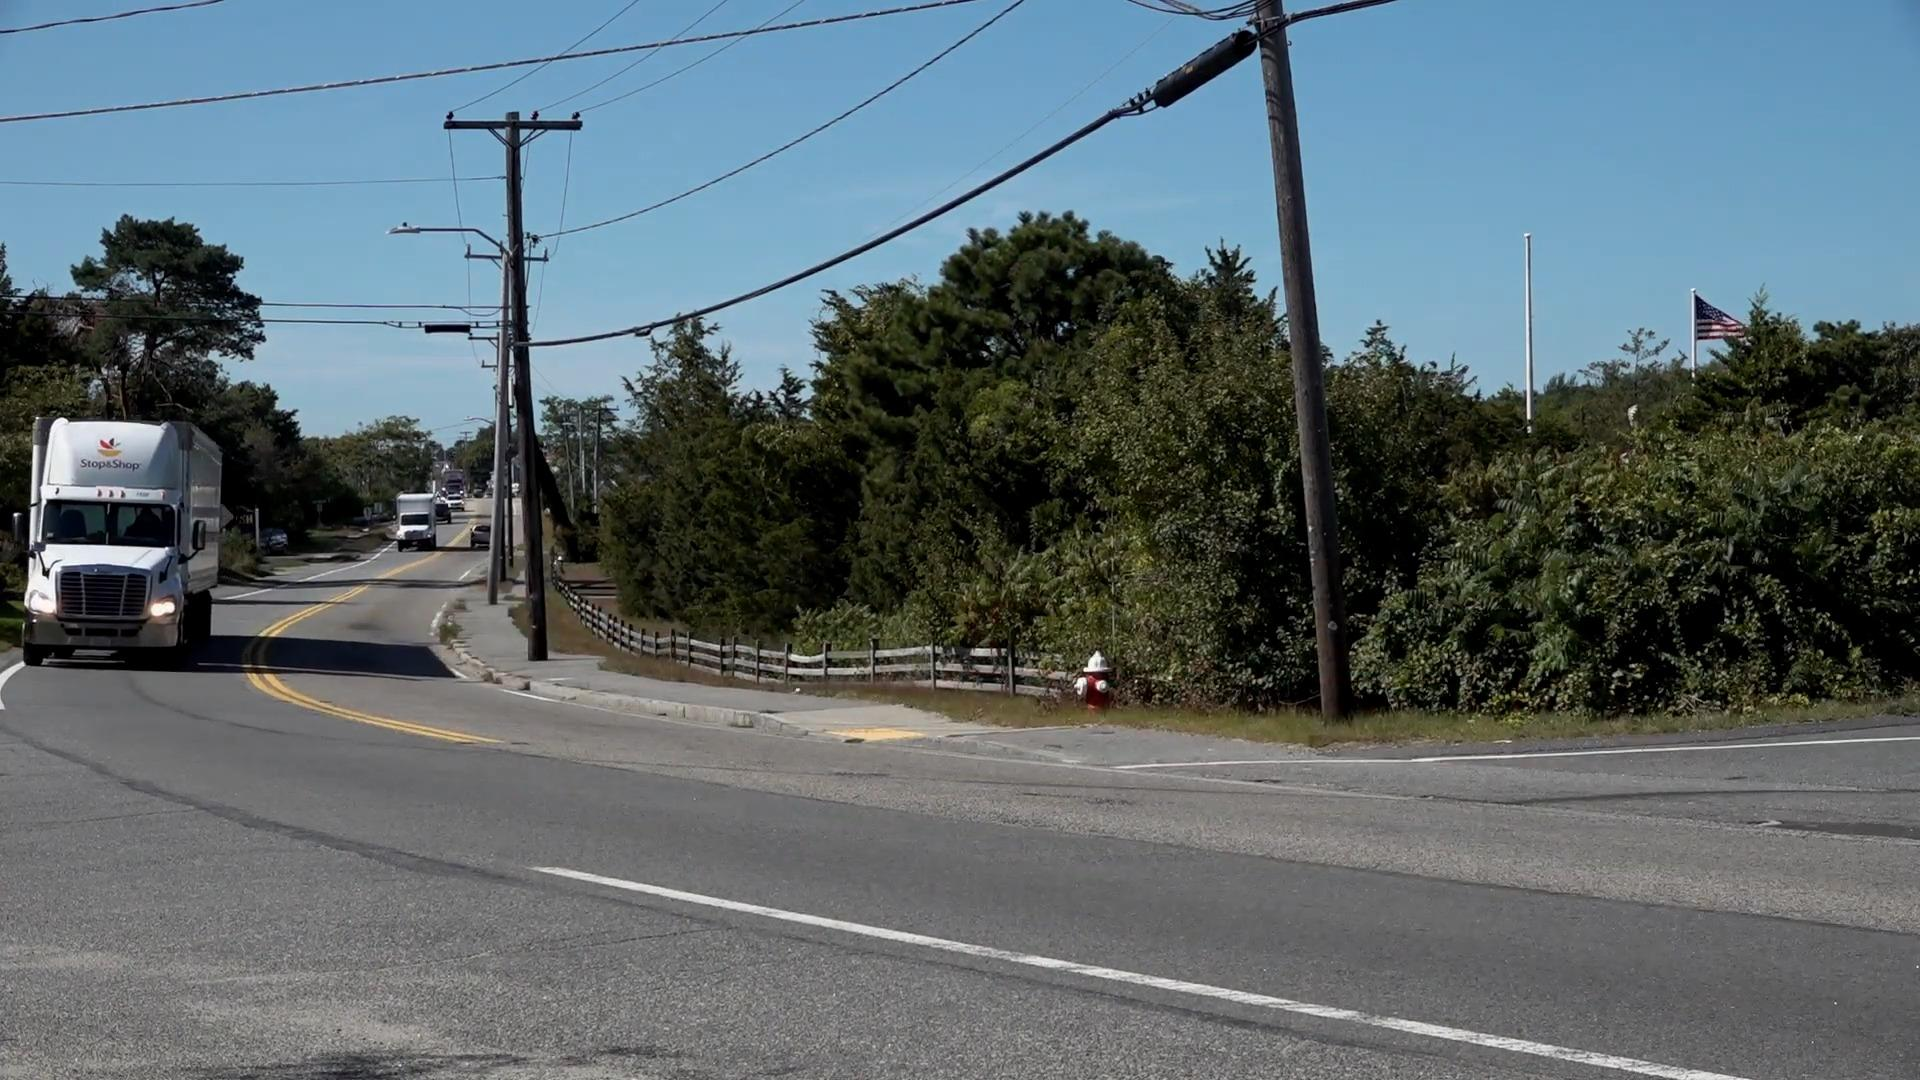truck: (25, 418, 228, 675)
